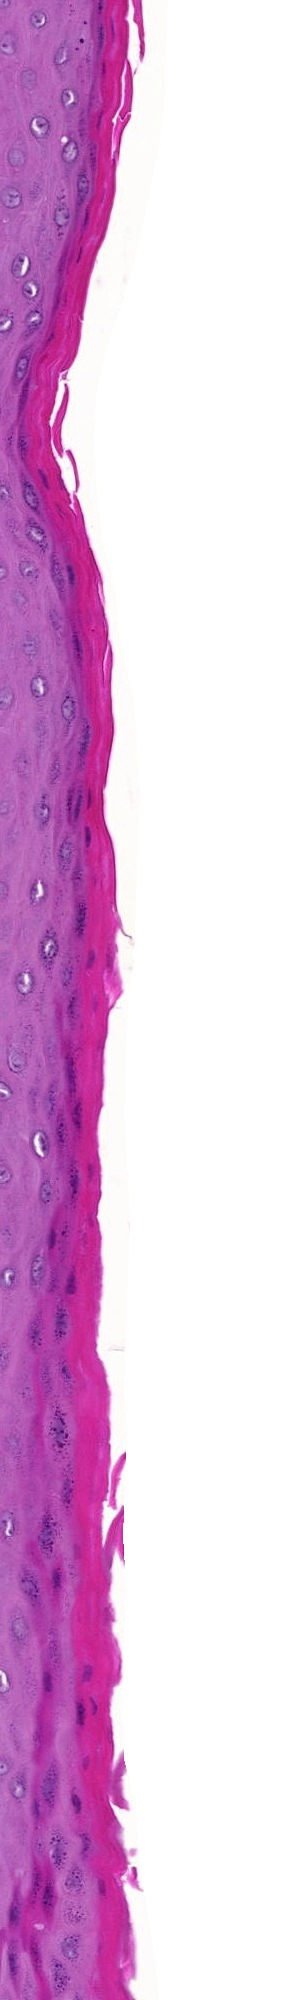epithelial: (57, 1430, 61, 1436), (43, 1679, 47, 1682), (18, 1057, 20, 1062), (37, 1268, 40, 1272), (78, 1710, 80, 1714), (70, 1073, 72, 1078), (31, 1583, 33, 1585), (57, 1849, 59, 1855), (49, 1892, 50, 1897), (68, 1949, 70, 1952), (61, 214, 63, 218), (29, 77, 31, 79), (6, 43, 8, 46), (83, 184, 84, 186), (20, 366, 22, 369), (69, 707, 70, 709), (47, 1193, 49, 1195), (56, 1578, 57, 1580), (75, 1802, 77, 1805), (86, 216, 87, 217), (29, 495, 31, 496)
